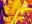Hotspot: (3, 0, 30, 24)
